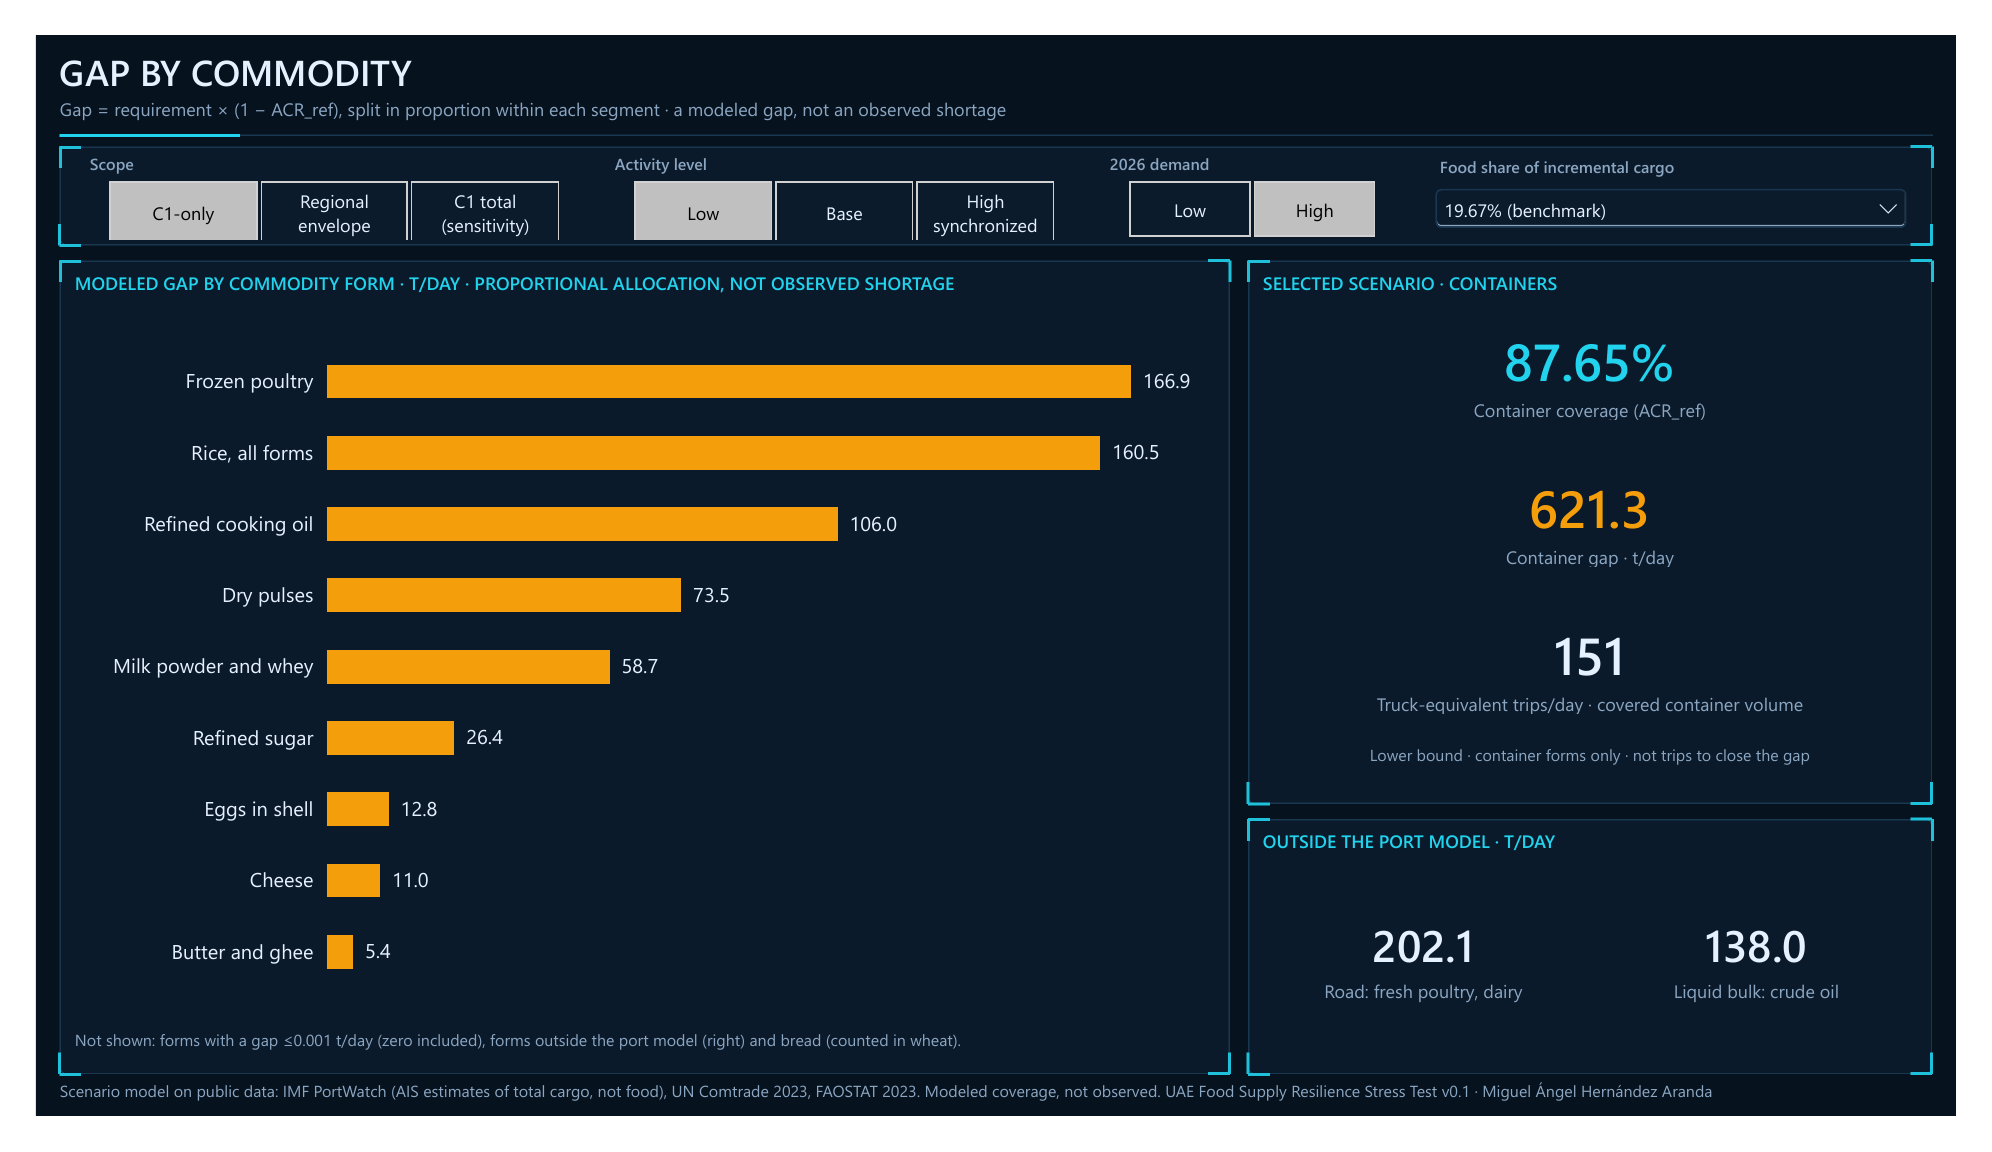

What the dashboard file says about the page in this screenshot:
{"tool":"powerbi","page":{"name":"Gap by commodity","canvas":[1280,720],"ordinal":2},"visuals":[{"type":"textbox","box":[16,8,1000,34],"z":0},{"type":"textbox","box":[16,40,1000,22],"z":1000},{"type":"textbox","box":[16,694,1248,24],"z":2000},{"type":"slicer","fields":{"Values":["scenarios.scope"]},"box":[28,78,340,58],"z":3000},{"type":"slicer","fields":{"Values":["scenarios.activity_level"]},"box":[378,78,320,58],"z":4000},{"type":"slicer","fields":{"Values":["demand_levels.demand"]},"box":[708,78,204,58],"z":5000},{"type":"slicer","fields":{"Values":["Food share.Label"]},"box":[928,80,324,54],"z":6000},{"type":"textbox","box":[26,156,760,26],"z":7000},{"type":"textbox","box":[26,660,760,24],"z":8000},{"type":"clusteredBarChart","fields":{"Category":["commodities.subgroup"],"Y":["_Measures.Gap_ref by subgroup (bar)"]},"box":[24,178,764,480],"z":9000},{"type":"textbox","box":[818,156,436,26],"z":10000},{"type":"card","fields":{"Values":["_Measures.ACR_ref container"]},"box":[820,180,432,92],"z":11000},{"type":"card","fields":{"Values":["_Measures.Gap_ref container (t/d)"]},"box":[820,278,432,92],"z":12000},{"type":"card","fields":{"Values":["_Measures.Truck-equivalent trips covered"]},"box":[820,376,432,92],"z":13000},{"type":"textbox","box":[820,470,432,30],"z":14000},{"type":"textbox","box":[818,528,436,26],"z":15000},{"type":"card","fields":{"Values":["_Measures.TER requirement (t/d)"]},"box":[820,556,210,120],"z":16000},{"type":"card","fields":{"Values":["_Measures.GL requirement (t/d)"]},"box":[1042,556,210,120],"z":17000}]}

Visuals, with their boxes in screenshot pixels (x1, y1, x2, y2), scaled from the page's 1280x720 canvas onto the 1992x1152 screenshot:
textbox: <box>25,13,1581,67</box>
textbox: <box>25,64,1581,99</box>
textbox: <box>25,1110,1967,1149</box>
slicer - scenarios.scope: <box>44,125,573,218</box>
slicer - scenarios.activity_level: <box>588,125,1086,218</box>
slicer - demand_levels.demand: <box>1102,125,1419,218</box>
slicer - Food share.Label: <box>1444,128,1948,214</box>
textbox: <box>40,250,1223,291</box>
textbox: <box>40,1056,1223,1094</box>
clusteredBarChart - commodities.subgroup x _Measures.Gap_ref by subgroup (bar): <box>37,285,1226,1053</box>
textbox: <box>1273,250,1952,291</box>
card - _Measures.ACR_ref container: <box>1276,288,1948,435</box>
card - _Measures.Gap_ref container (t/d): <box>1276,445,1948,592</box>
card - _Measures.Truck-equivalent trips covered: <box>1276,602,1948,749</box>
textbox: <box>1276,752,1948,800</box>
textbox: <box>1273,845,1952,886</box>
card - _Measures.TER requirement (t/d): <box>1276,890,1603,1082</box>
card - _Measures.GL requirement (t/d): <box>1622,890,1948,1082</box>
